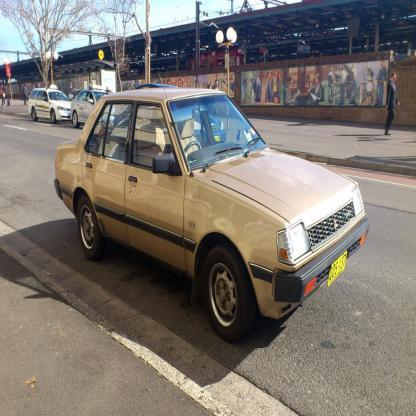car: (55, 82, 370, 340), (72, 87, 116, 127), (29, 87, 72, 122)
